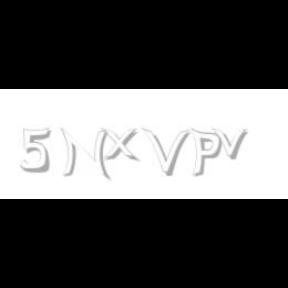5: (20, 128, 50, 174)
N: (60, 128, 109, 180)
P: (190, 128, 222, 178)
V: (142, 128, 190, 176)
v: (212, 128, 252, 160)
x: (101, 128, 143, 162)
